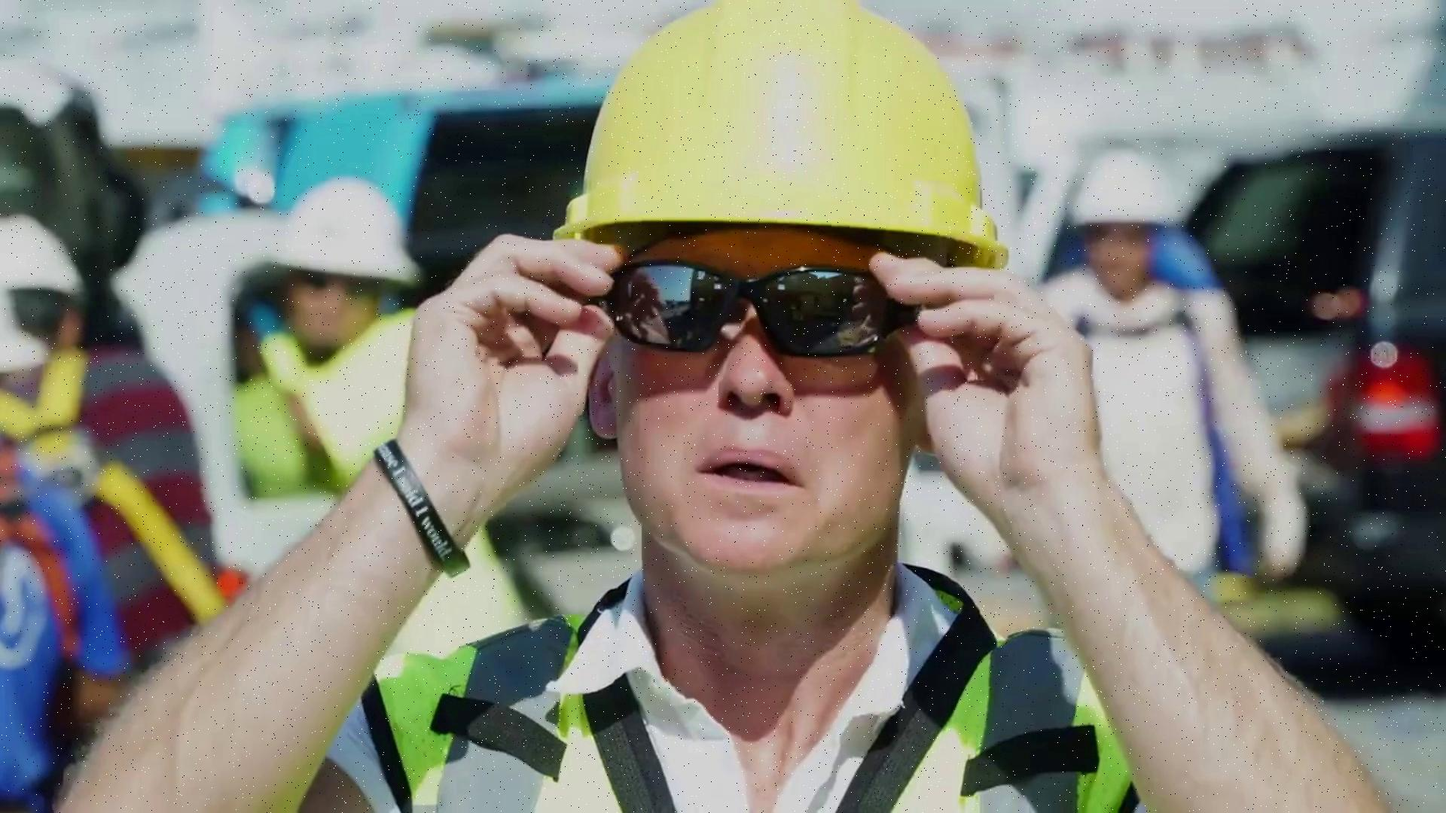Hard_hat: (546, 8, 1032, 226), (251, 170, 422, 286), (1062, 140, 1183, 234), (0, 211, 92, 313)
